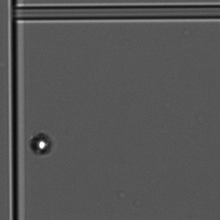Living Cell: (26, 130, 58, 159)
